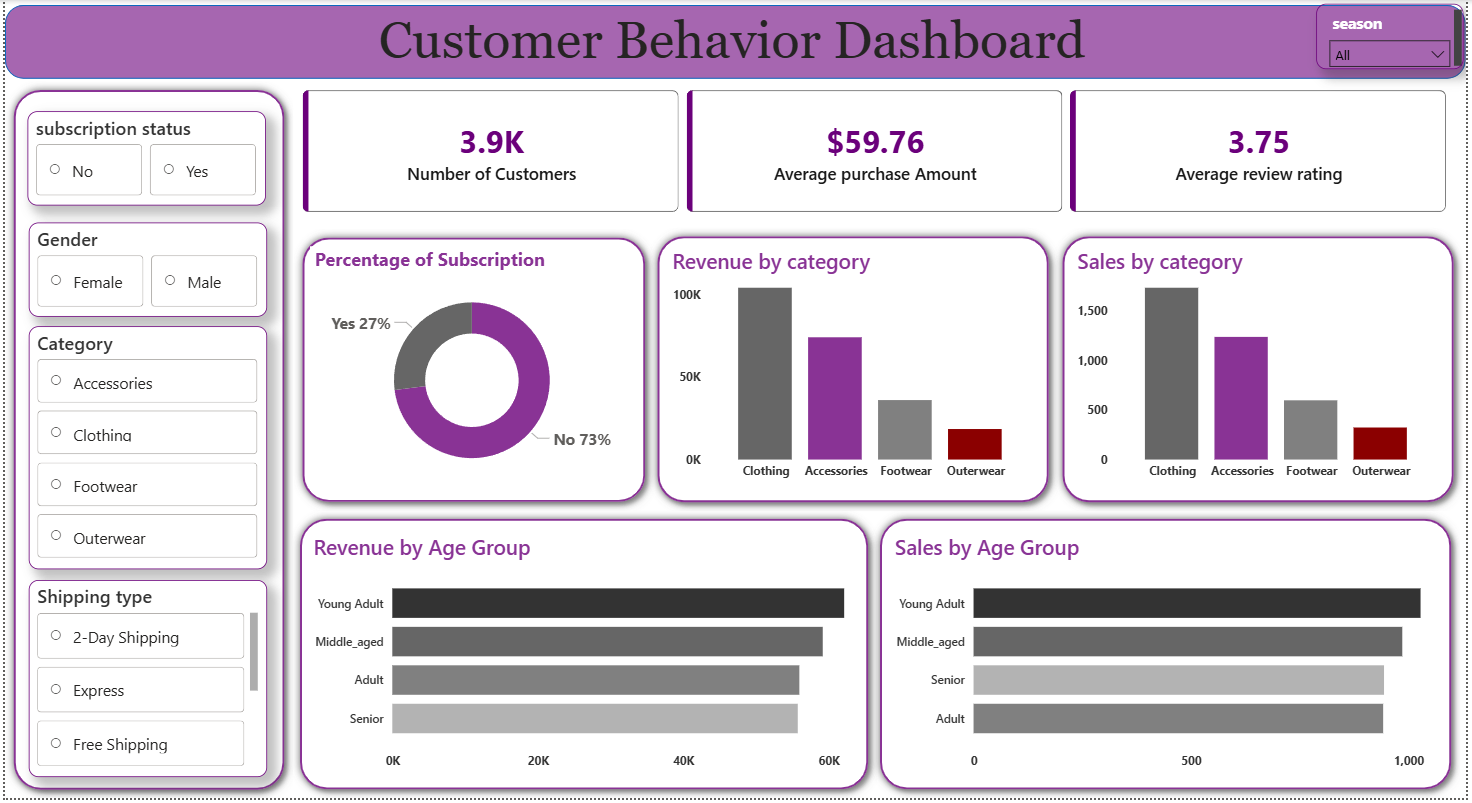

What the dashboard file says about the page in this screenshot:
{"tool":"powerbi","page":{"name":"Page 1","canvas":[1500,820],"ordinal":0},"visuals":[{"type":"cardVisual","fields":{"Data":["proj_4 customer.Number of Customers","proj_4 customer.Average purchase Amount","proj_4 customer.Average review rating"]},"box":[289.5,75.6,1210.9,159.2],"z":0},{"type":"shape","box":[0,0,1500.3,75.6],"z":1000},{"type":"textbox","box":[0,3.2,1500.3,70.8],"z":2000},{"type":"shape","box":[295.9,234.8,369.9,289.5],"z":3000},{"type":"donutChart","title":"Percentage of Subscription","fields":{"Category":["proj_4 customer.subscription_status"],"Y":["CountNonNull(proj_4 customer.customer_id)"]},"box":[313.6,252.5,332.9,250.9],"z":4000},{"type":"shape","box":[660.9,233.2,419.7,291.1],"z":5000},{"type":"clusteredColumnChart","title":"Revenue by category","fields":{"Y":["Sum(proj_4 customer.purchase_amount)"],"Category":["proj_4 customer.category"]},"box":[680.2,252.5,379.5,249.3],"z":6000},{"type":"shape","box":[1077.4,233.2,419.7,291.1],"z":7000},{"type":"clusteredColumnChart","title":"Sales by category","fields":{"Category":["proj_4 customer.category"],"Y":["CountNonNull(proj_4 customer.customer_id)"]},"box":[1096.7,252.5,379.5,249.3],"z":8000},{"type":"shape","box":[0,83.6,295.9,736.5],"z":9000},{"type":"advancedSlicerVisual","title":"subscription status","fields":{"Values":["proj_4 customer.subscription_status"]},"box":[22.5,114.2,244.4,96.5],"z":10000},{"type":"advancedSlicerVisual","title":"Gender","fields":{"Values":["proj_4 customer.gender"]},"box":[24.1,228.3,244.4,96.5],"z":11000},{"type":"advancedSlicerVisual","title":"Category","fields":{"Values":["proj_4 customer.category"]},"box":[24.1,334.5,244.4,249.3],"z":12000},{"type":"advancedSlicerVisual","title":"Shipping type","fields":{"Values":["proj_4 customer.shipping_type"]},"box":[24.1,595,244.4,202.6],"z":13000},{"type":"shape","box":[294.3,524.2,601.4,295.9],"z":14000},{"type":"shape","box":[889.3,524.1,604.6,295.9],"z":15000},{"type":"clusteredBarChart","title":"Revenue by Age Group","fields":{"Category":["proj_4 customer.age_group"],"Y":["Sum(proj_4 customer.purchase_amount)"]},"box":[312,546.7,566,252.5],"z":16000},{"type":"slicer","title":"subscription status","fields":{"Values":["proj_4 customer.season"]},"box":[1346,3.2,151.2,67.5],"z":17000},{"type":"clusteredBarChart","title":"Sales by Age Group","fields":{"Category":["proj_4 customer.age_group"],"Y":["CountNonNull(proj_4 customer.customer_id)"]},"box":[908.6,546.7,566,252.5],"z":18000}]}

Visuals, with their boxes in screenshot pixels (x1, y1, x2, y2), scaled from the page's 1500x820 canvas onto the 1472x803 screenshot:
cardVisual - proj_4 customer.Number of Customers x proj_4 customer.Average purchase Amount: region(284, 74, 1471, 230)
shape: region(0, 0, 1471, 74)
textbox: region(0, 3, 1471, 72)
shape: region(290, 230, 653, 513)
"Percentage of Subscription" donutChart: region(308, 247, 634, 493)
shape: region(649, 228, 1060, 513)
"Revenue by category" clusteredColumnChart: region(668, 247, 1040, 491)
shape: region(1057, 228, 1469, 513)
"Sales by category" clusteredColumnChart: region(1076, 247, 1449, 491)
shape: region(0, 82, 290, 802)
"subscription status" advancedSlicerVisual: region(22, 112, 262, 206)
"Gender" advancedSlicerVisual: region(24, 224, 263, 318)
"Category" advancedSlicerVisual: region(24, 328, 263, 572)
"Shipping type" advancedSlicerVisual: region(24, 583, 263, 781)
shape: region(289, 513, 879, 802)
shape: region(873, 513, 1466, 802)
"Revenue by Age Group" clusteredBarChart: region(306, 535, 862, 783)
"subscription status" slicer: region(1321, 3, 1469, 69)
"Sales by Age Group" clusteredBarChart: region(892, 535, 1447, 783)
